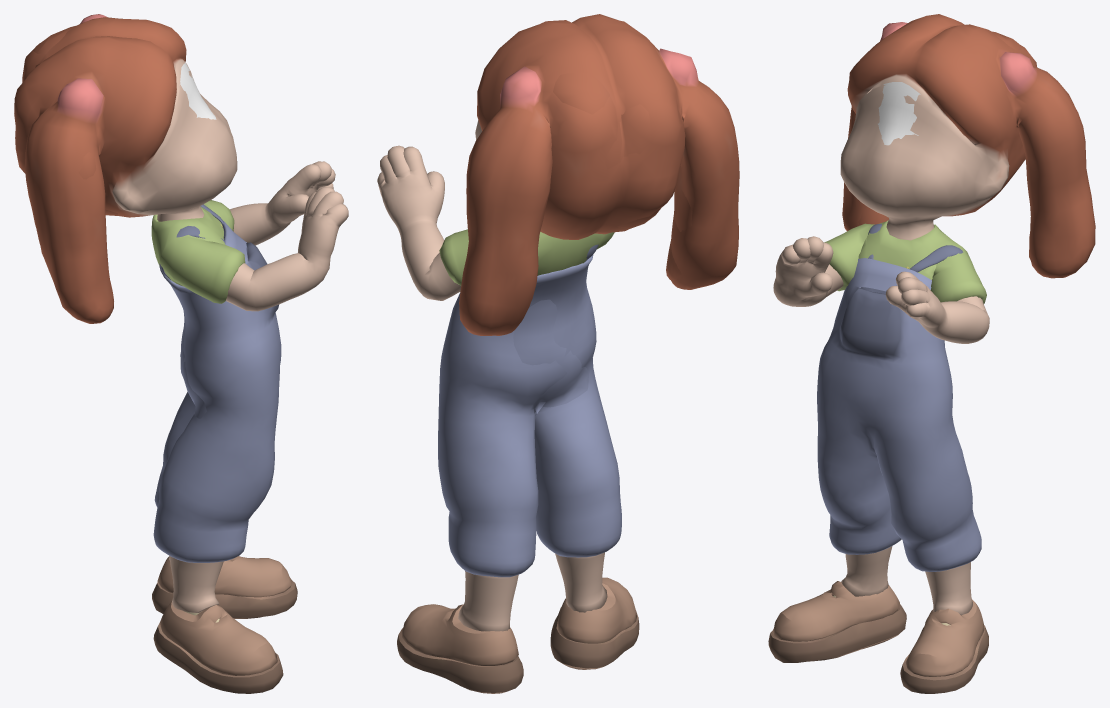
3 renders of one model, left to right at view 1: azimuth 30°, elevation 25°; view 2: azimuth 150°, elevation 25°; view 3: azimuth 270°, elevation 25°, orthographic. The views are drawn at different scales.
Parts seen in each view (by area): view 1: Arms.018; view 2: Arms.018; view 3: Arms.018.
Part boxes in pixels (<box>): Arms.018: <box>14,14,348,693</box>; Arms.018: <box>377,14,739,693</box>; Arms.018: <box>768,14,1095,693</box>.
Size of the model in its own units: 84.98 by 162 by 80.15.
